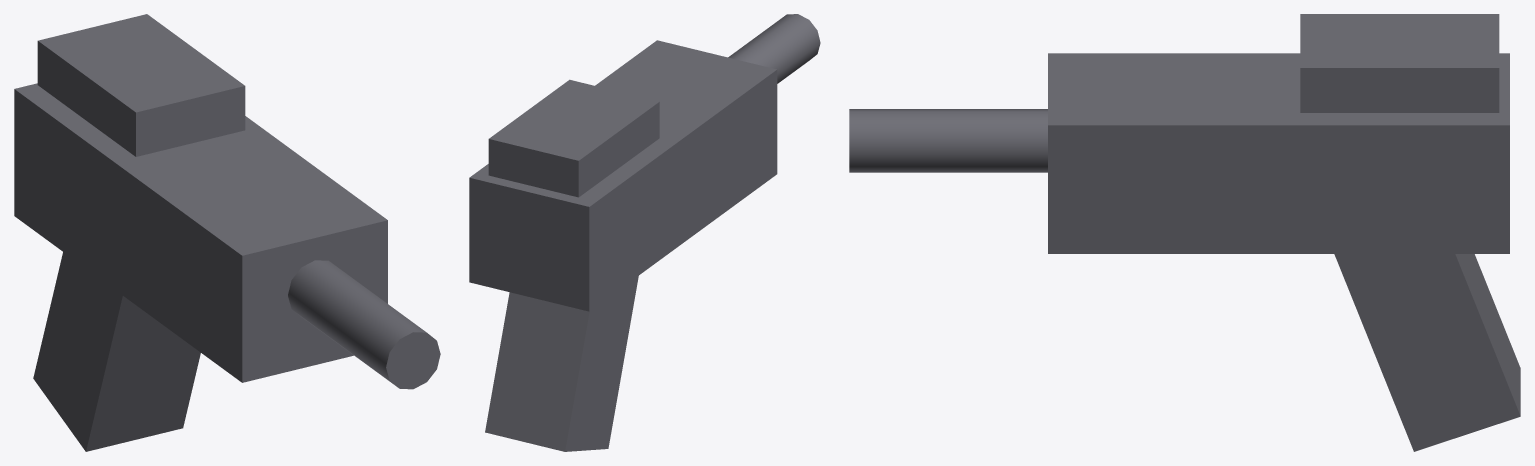
File: backup_pistol.gltf
The picture shows the model from 3 angles, left to right: view 1: azimuth 30°, elevation 25°; view 2: azimuth 150°, elevation 25°; view 3: azimuth 270°, elevation 25°; orthographic projection. The views are drawn at different scales.
Visible parts, largest first — view 1: backup_pistol; view 2: backup_pistol; view 3: backup_pistol.
Part boxes in pixels (box(x1,y1,x2,y2)): backup_pistol: box(14, 14, 440, 451); backup_pistol: box(469, 14, 820, 451); backup_pistol: box(849, 14, 1520, 451).
Bounding box in the file's own units: 0.24 × 0.6009 × 0.9453.
